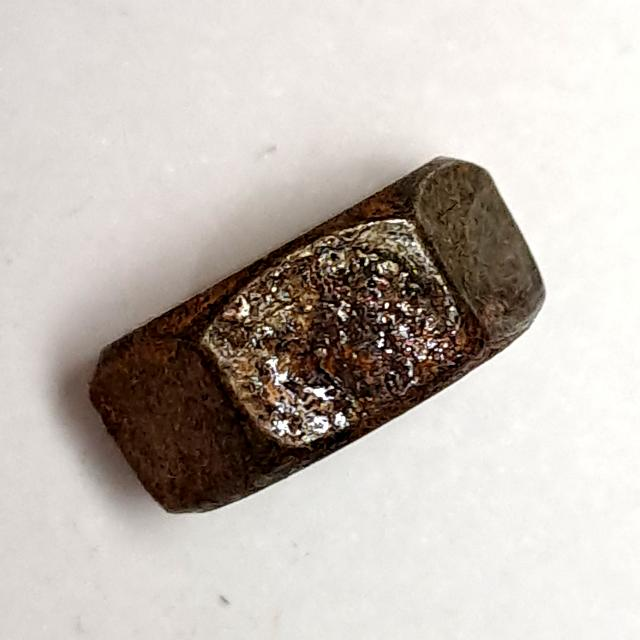Side_Rust: (81, 147, 559, 523)
